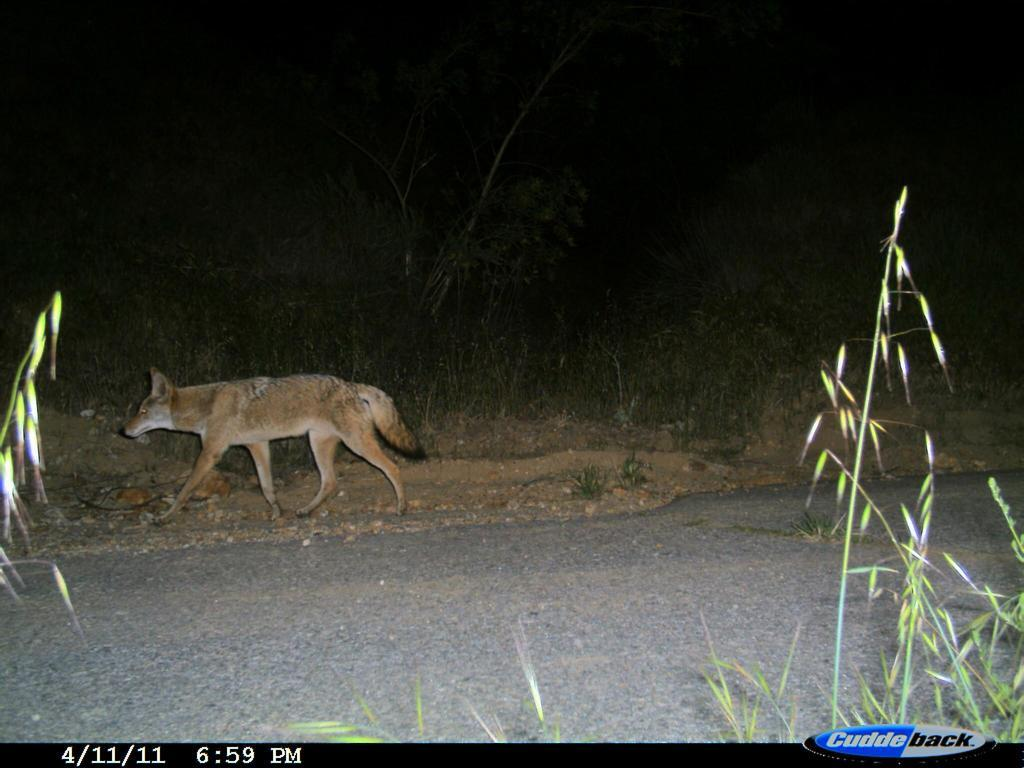coyote: (114, 353, 431, 538)
